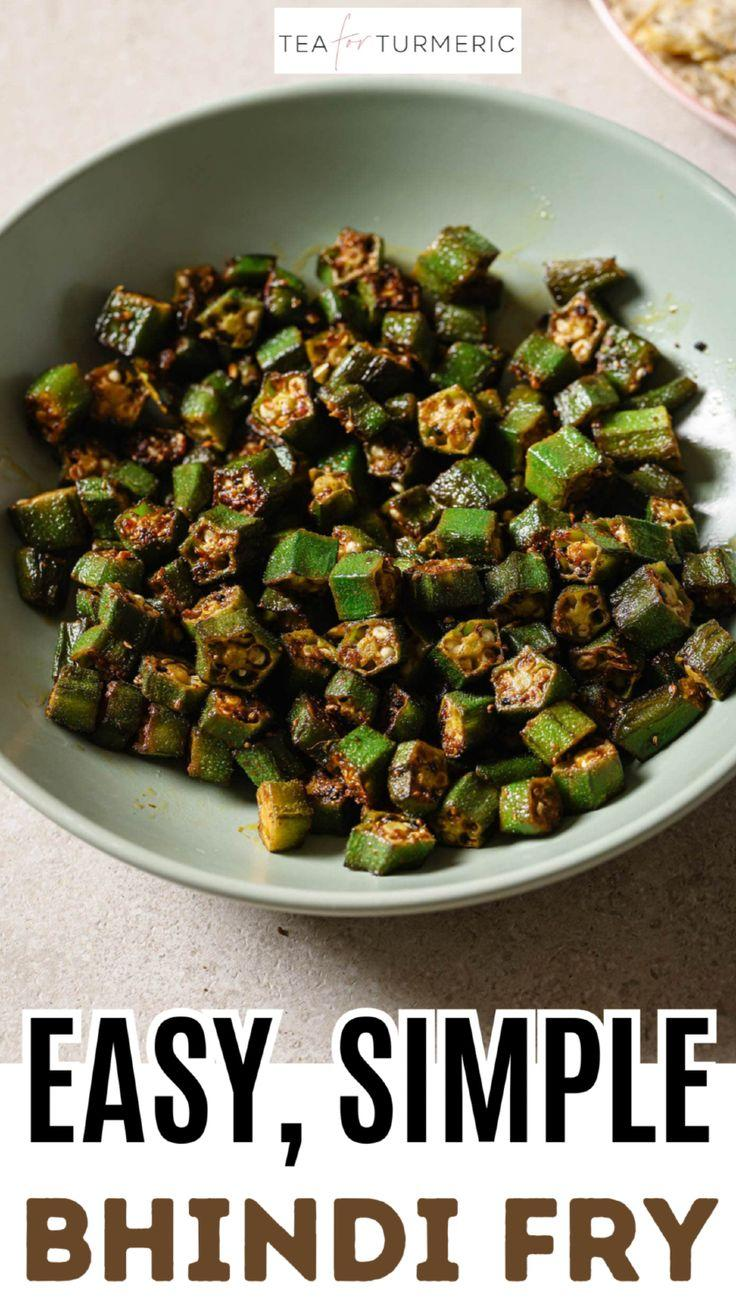bhindi: (84, 287, 711, 770)
